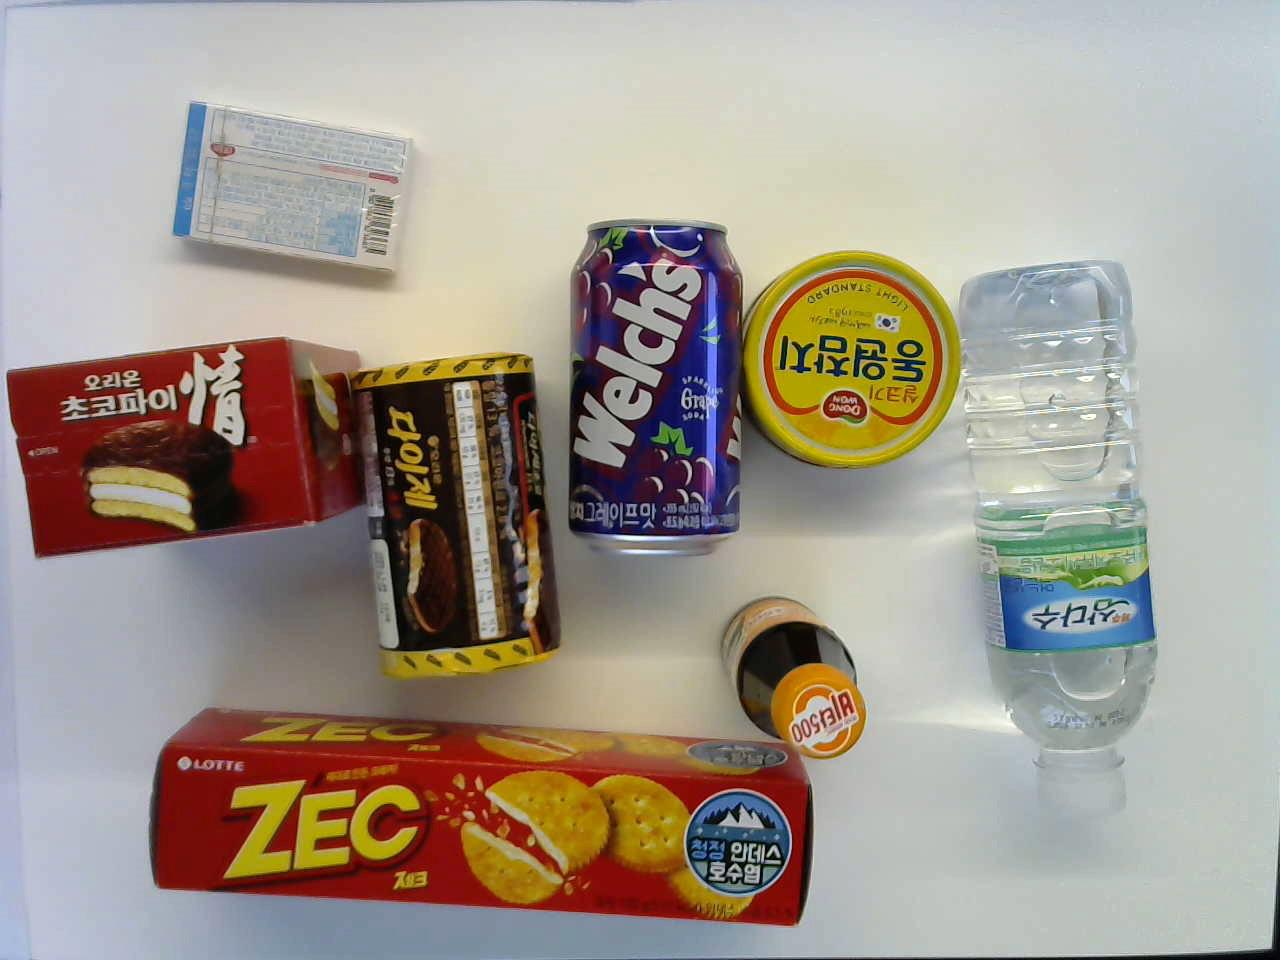ID_gum: (163, 95, 424, 287)
chocopie: (0, 331, 370, 563)
diget_choco: (352, 347, 565, 685)
samdasu: (954, 246, 1163, 822)
tuna: (739, 244, 967, 468)
vita500: (707, 590, 871, 763)
welchs: (555, 218, 751, 556)
zec: (131, 701, 816, 930)
